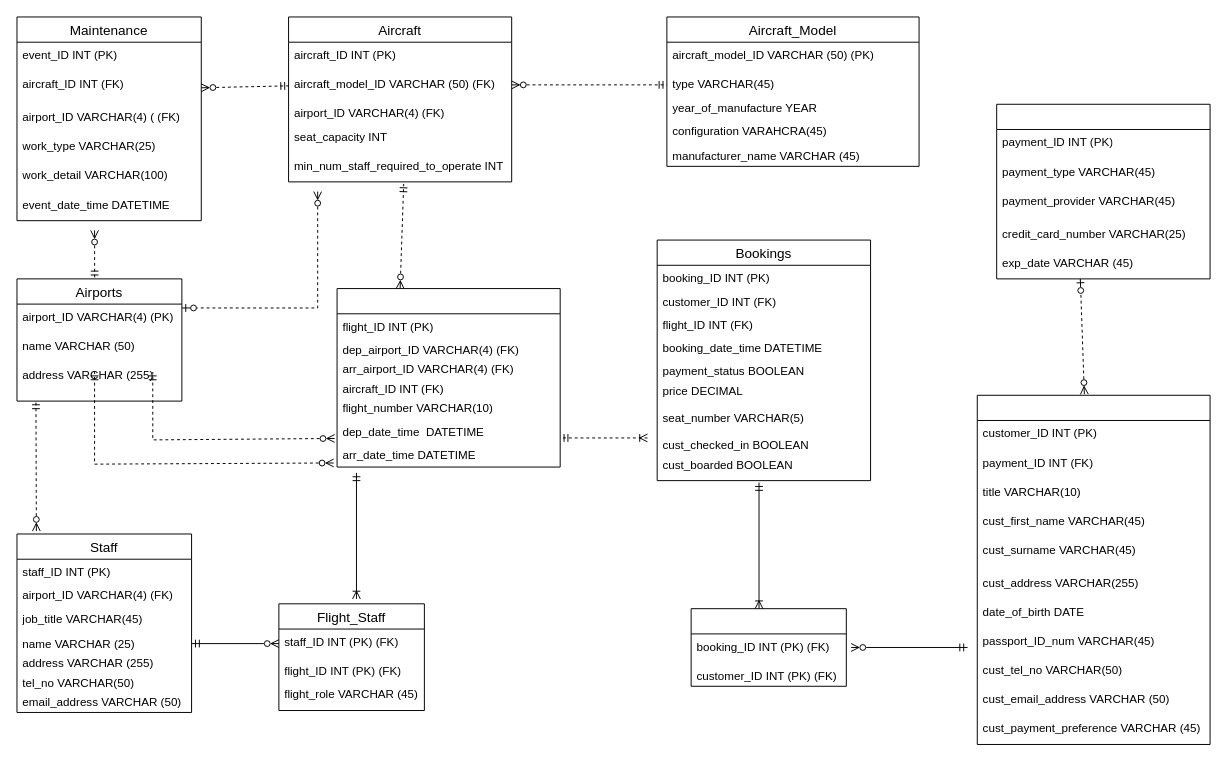
The diagram is 1227 pixels wide and 764 high, and some of its shapes have lost their labels. Here are the shapes that lost their labels. From the top down, the box of each, then its label:
(996, 103, 1210, 279): Payment_Methods
(336, 288, 560, 467): Flights
(976, 394, 1210, 744): Customers
(690, 608, 846, 686): Customer_Bookings
